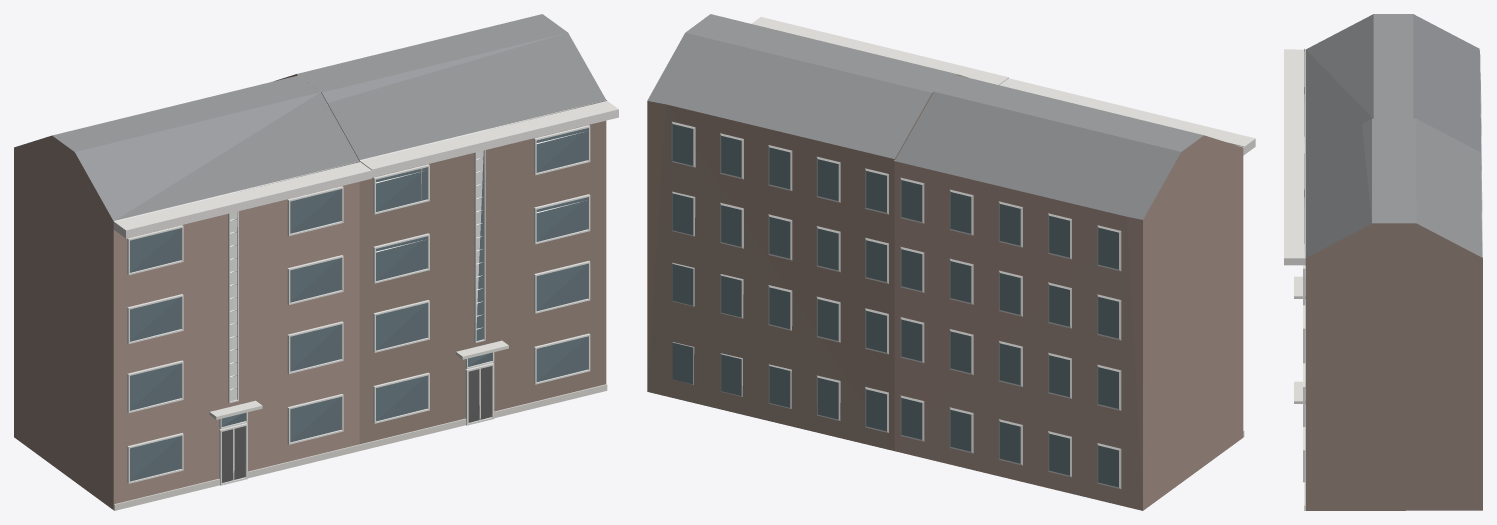
File: chunk-face-hembrug-21-27.lod2.glb
The picture shows the model from 3 angles, left to right: view 1: azimuth 30°, elevation 25°; view 2: azimuth 150°, elevation 25°; view 3: azimuth 270°, elevation 25°; orthographic projection. The views are drawn at different scales.
Visible parts, largest first — view 1: lod2; view 2: lod2; view 3: lod2.
Part boxes in pixels (x1,y1,x2,y2): lod2: (14, 14, 618, 510); lod2: (647, 14, 1255, 510); lod2: (1284, 14, 1482, 510).
Size of the model in its own units: 25.23 by 16.13 by 10.11.
